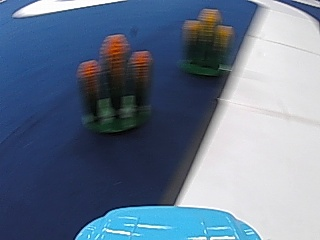corn: (77, 29, 154, 136), (180, 4, 236, 77)
